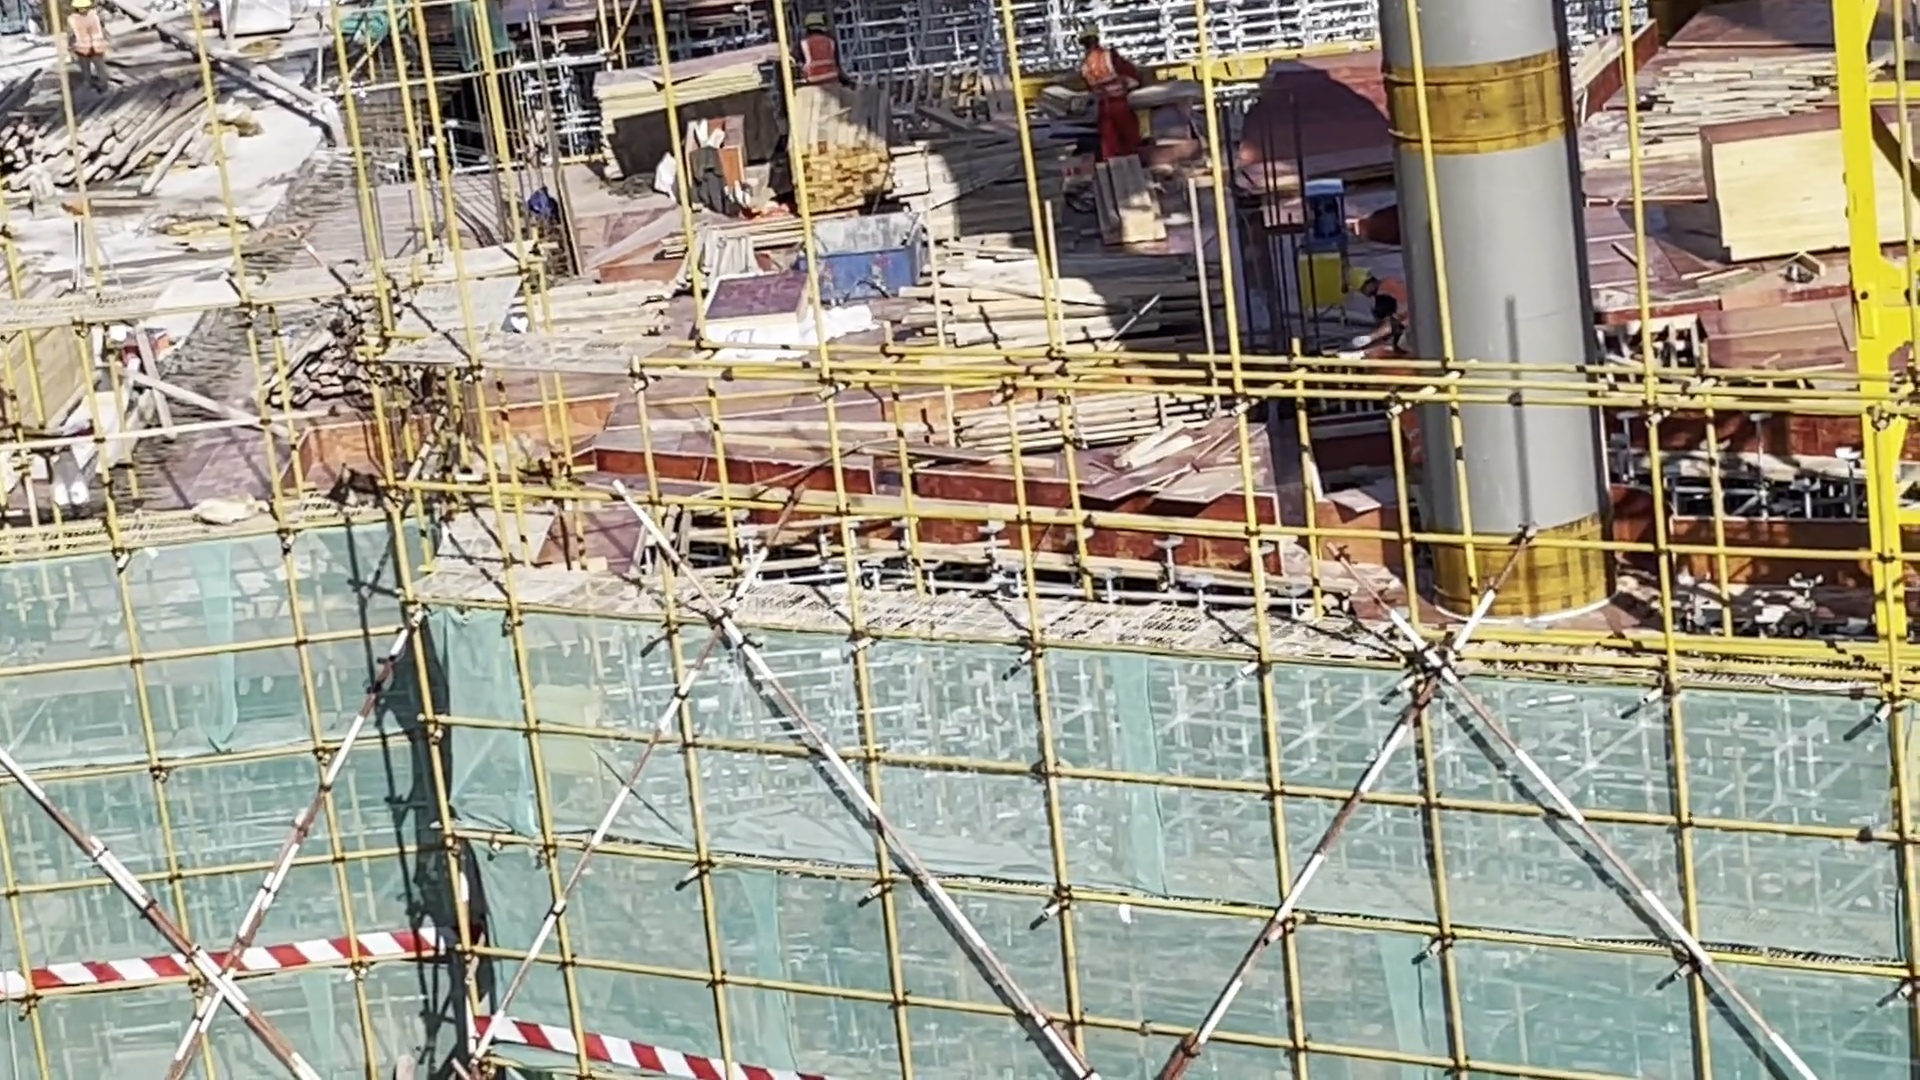board: (1121, 383, 1248, 518)
helmet: (797, 7, 831, 35), (1073, 20, 1097, 44), (1349, 266, 1369, 294)
hopper: (793, 222, 914, 298)
person: (1064, 25, 1154, 163), (1337, 261, 1412, 352), (792, 15, 846, 82)
vest: (1076, 53, 1124, 100), (794, 37, 828, 74)
wood: (896, 248, 1178, 360), (1619, 24, 1846, 132), (14, 86, 196, 215), (773, 87, 882, 223)
